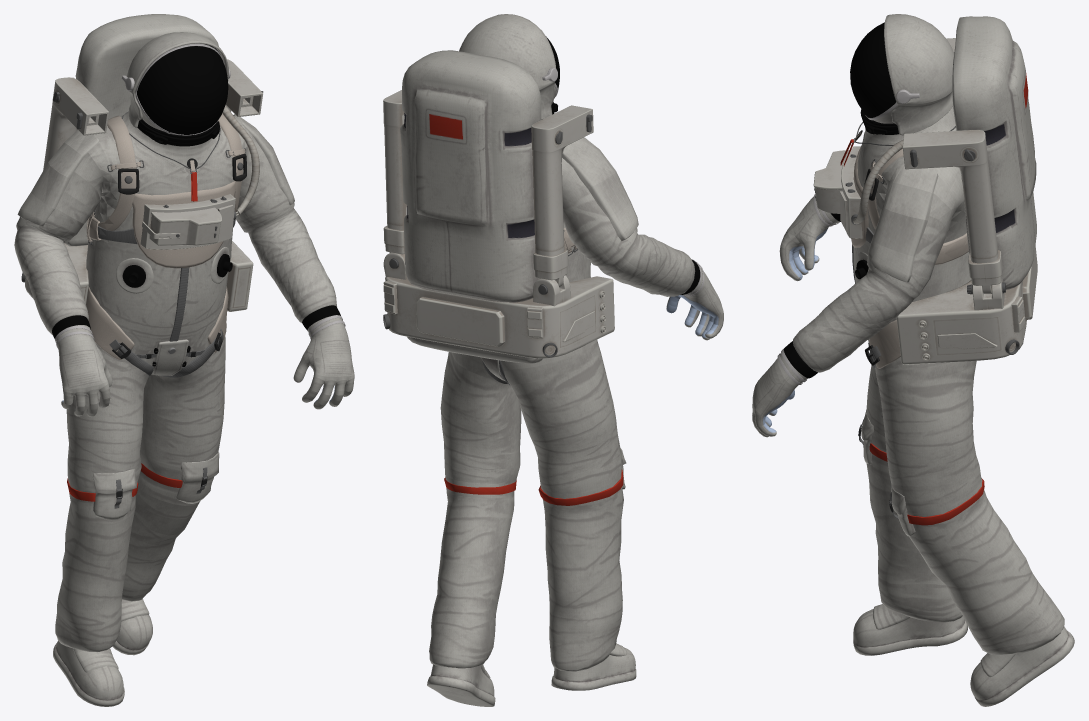
Rendered from astronaut_pro.dae.
3 views of the same model, side by side, from view 1: azimuth 30°, elevation 25°; view 2: azimuth 150°, elevation 25°; view 3: azimuth 270°, elevation 25° (orthographic). The views are drawn at different scales.
Visible parts, largest first — view 1: mesh_2; view 2: mesh_2; view 3: mesh_2.
Boxes of the visible parts, x1,y1,x2,y2 form: mesh_2: (14,14,354,706); mesh_2: (383,14,723,706); mesh_2: (752,14,1074,706).
Size of the model in its own units: 109 by 103 by 242.
Materials: 3 (2 with a texture image).
